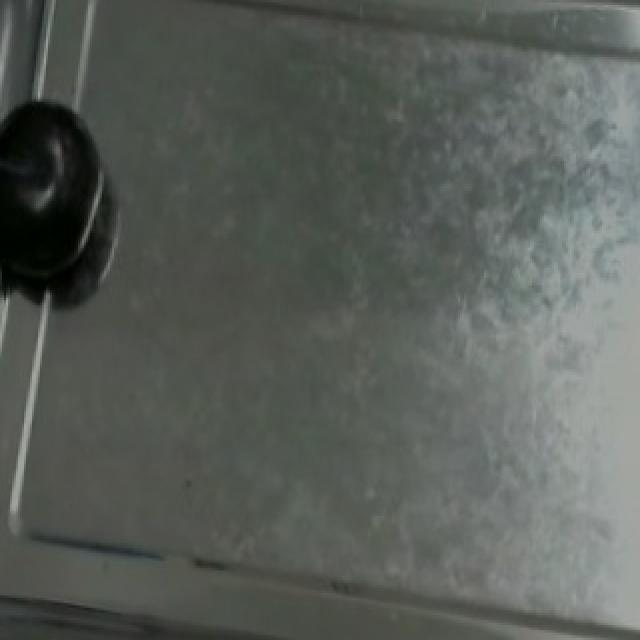Fruit: (0, 89, 120, 268)
